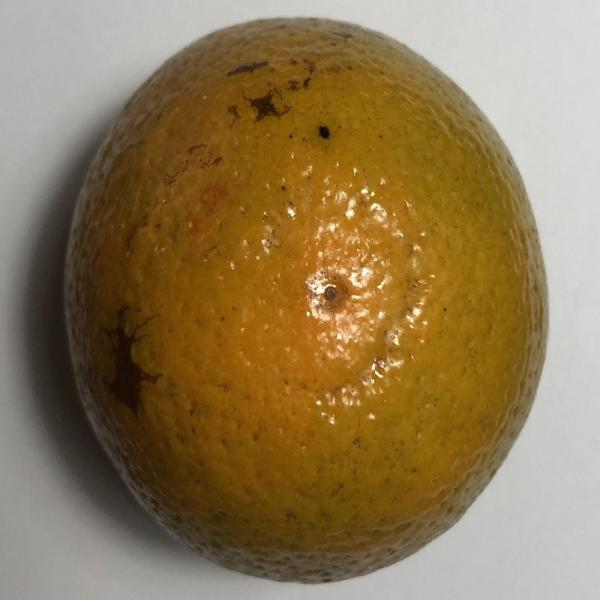Machas negras: (52, 0, 564, 588)
